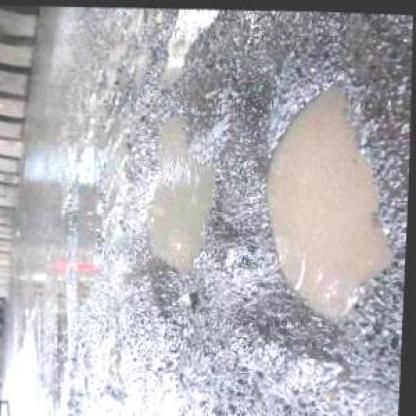pothole: (236, 68, 406, 354), (125, 103, 226, 291)
